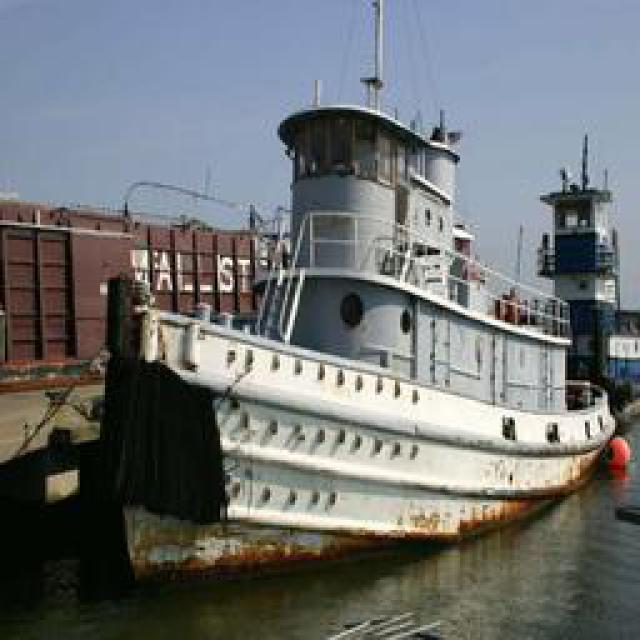Ship: (123, 60, 611, 540)
